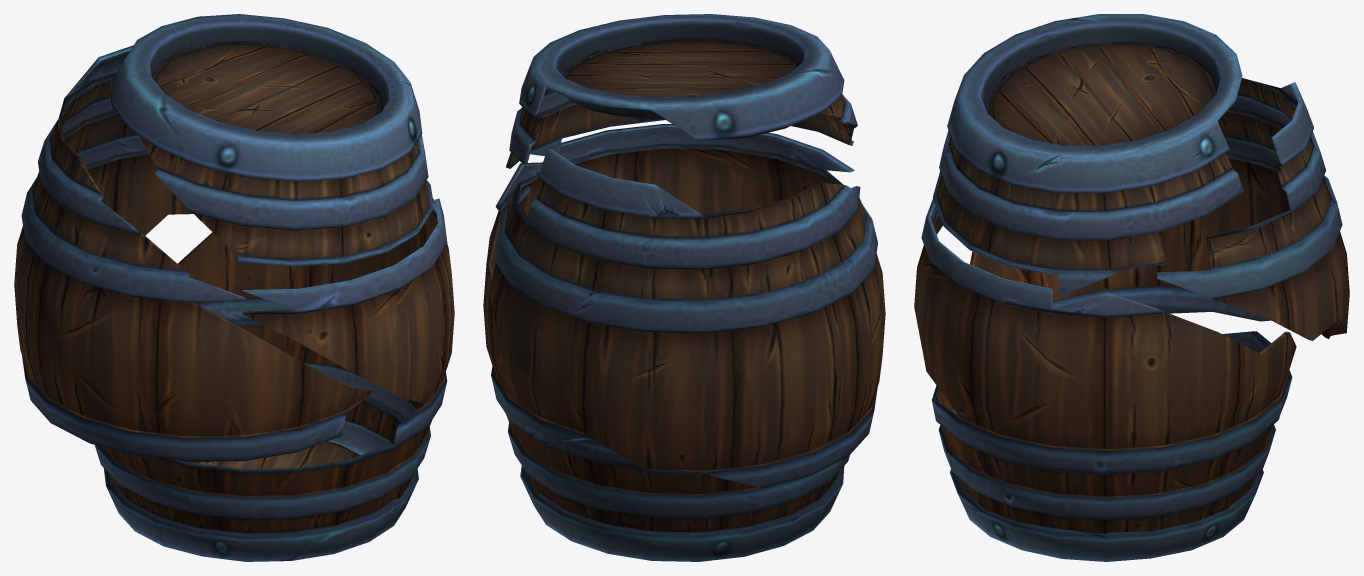
File: Barrel_Shatter.fbx
3 views of the same model, side by side, from view 1: azimuth 30°, elevation 25°; view 2: azimuth 150°, elevation 25°; view 3: azimuth 270°, elevation 25° (orthographic). The views are drawn at different scales.
Visible parts, largest first — view 1: shard4, shard5, shard1, shard2, shard3; view 2: shard4, shard5, shard3, shard1; view 3: shard1, shard5, shard4, shard3, shard2.
Boxes of the visible parts, x1,y1,x2,y2 form: shard4: [14, 45, 373, 462]; shard5: [109, 14, 433, 266]; shard1: [177, 198, 454, 498]; shard2: [113, 441, 418, 561]; shard3: [94, 319, 390, 556]; shard4: [489, 148, 885, 488]; shard5: [506, 14, 857, 168]; shard3: [513, 424, 849, 561]; shard1: [483, 124, 854, 494]; shard1: [914, 198, 1296, 538]; shard5: [933, 14, 1243, 296]; shard4: [970, 78, 1349, 340]; shard3: [1107, 331, 1292, 558]; shard2: [939, 409, 1150, 561].
Size of the model in its own units: 86.71 by 99.96 by 90.46.
